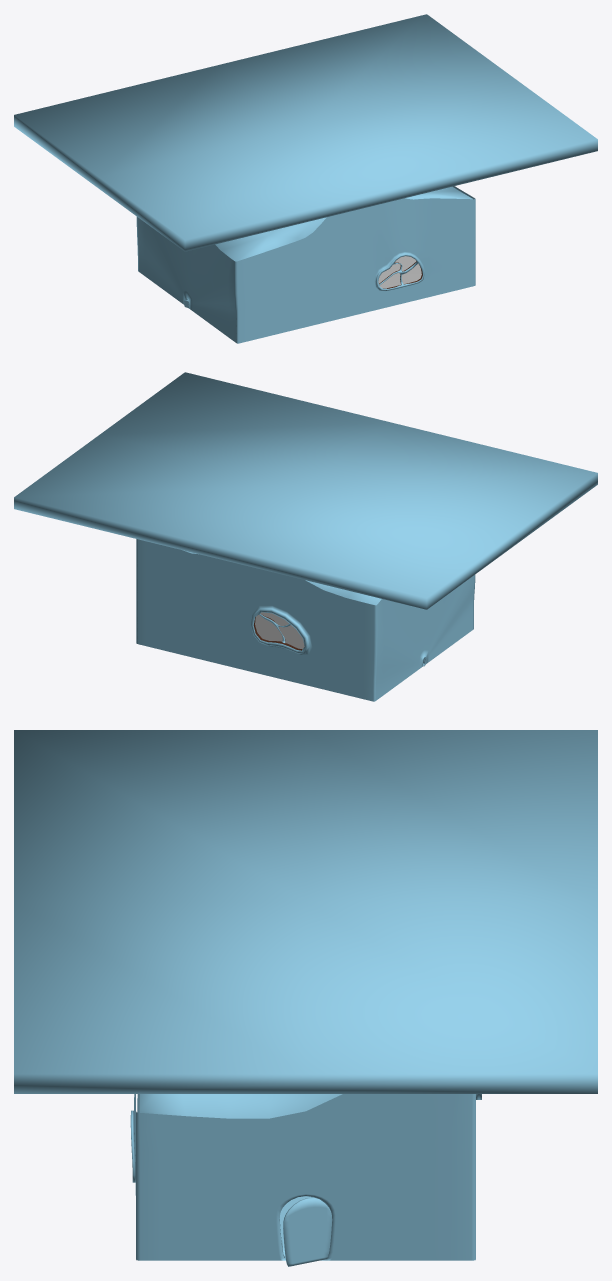
The model's file is Alicia_Kitchen_NoAnim_v4.fbx.
3 renders of one model, top to bottom at view 1: azimuth 30°, elevation 25°; view 2: azimuth 150°, elevation 25°; view 3: azimuth 270°, elevation 25°, orthographic. The views are drawn at different scales.
Visible parts, largest first — view 1: House; view 2: House; view 3: House, BigDoor.
Boxes of the visible parts, x1=… form: House: x1=14, y1=14, x2=597, y2=343; House: x1=14, y1=372, x2=597, y2=701; House: x1=14, y1=730, x2=597, y2=1260; BigDoor: x1=283, y1=1197, x2=332, y2=1266.
Bounding box in the file's own units: 26.74 × 13.06 × 37.27.
